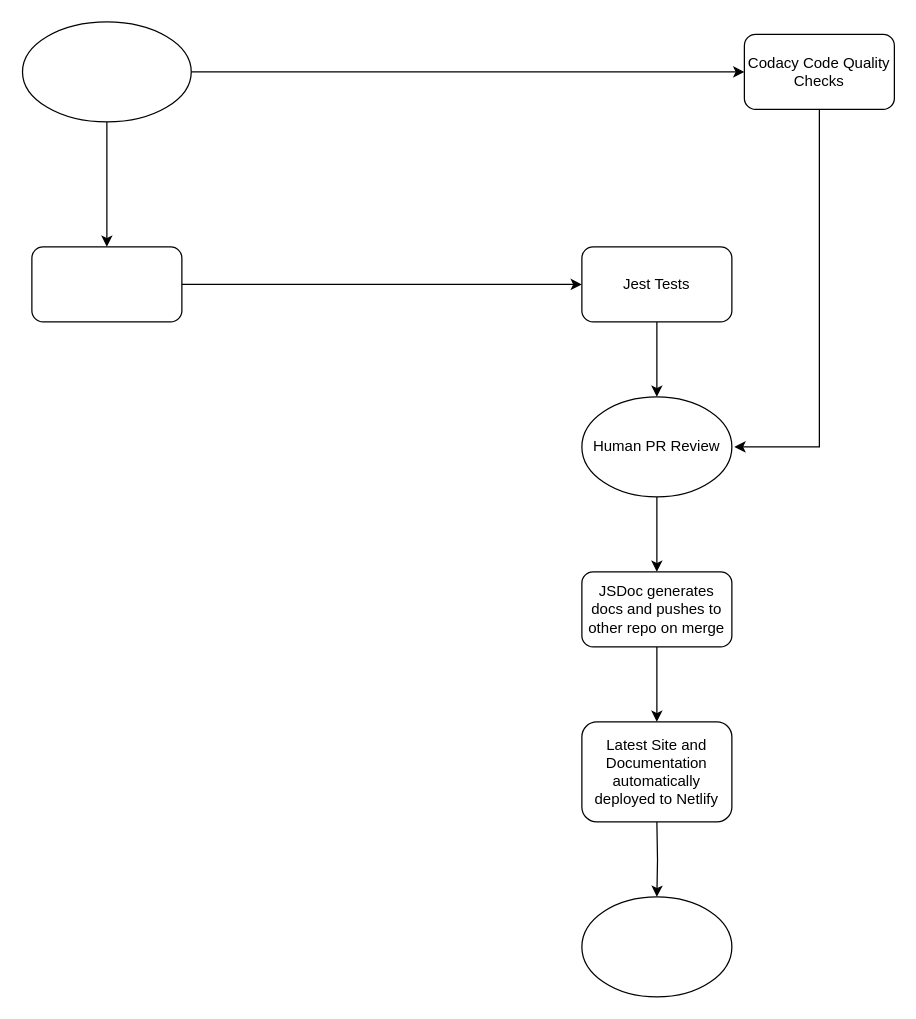
This 916x1019 diagram has some shape labels left out. Here are the shapes that lost their labels. From the top down, the box of each, then its label:
(21, 21, 191, 122): Push or Pull Request in Github Repository
(31, 246, 182, 322): Linting w/ Airbnb & ESLint
(581, 896, 732, 997): Done
